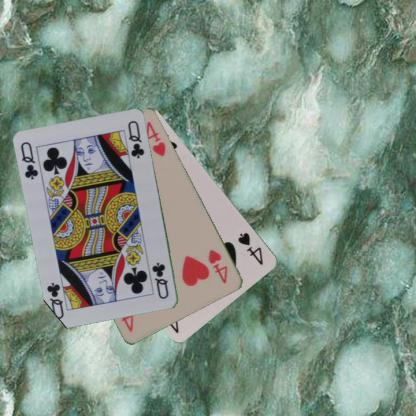4h: (206, 247, 229, 285)
4s: (236, 230, 265, 266)
Qc: (18, 139, 40, 181), (150, 260, 171, 300)
